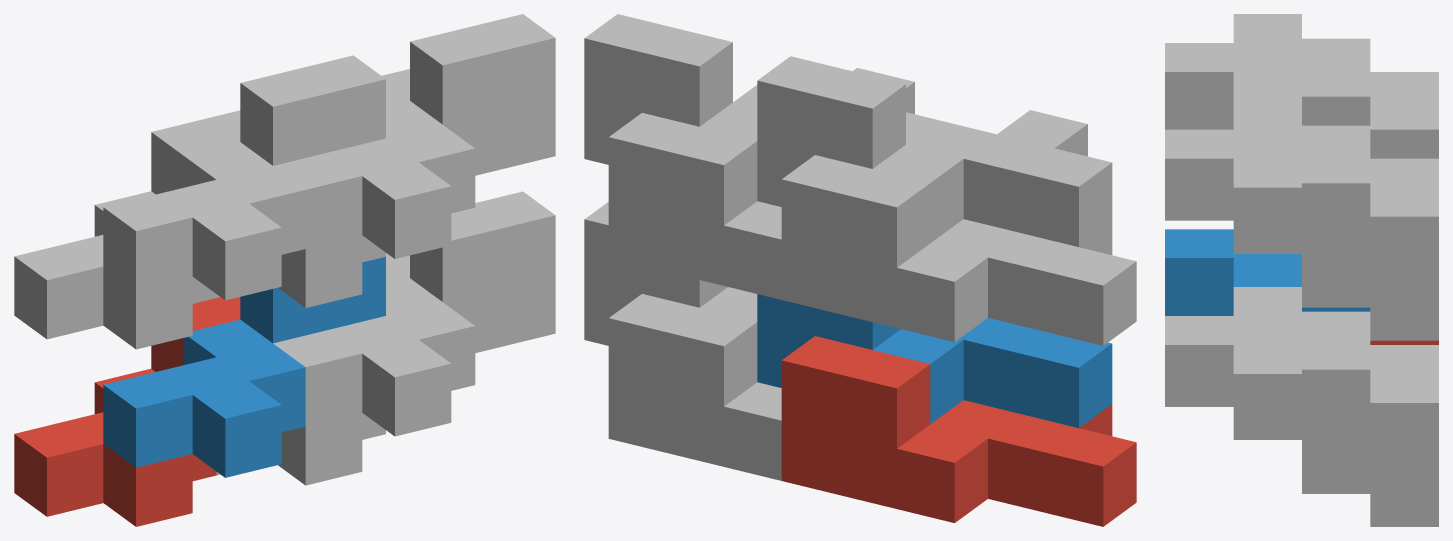
Rendered from tiling.obj.
3 views of the same model, side by side, from view 1: azimuth 30°, elevation 25°; view 2: azimuth 150°, elevation 25°; view 3: azimuth 270°, elevation 25° (orthographic). The views are drawn at different scales.
Parts seen in each view (by area): view 1: copy_1_domain_8, copy_1_domain_6, copy_1_domain_4, copy_1_domain_2, copy_1_domain_3, copy_1_domain_1, copy_1_domain_7, copy_1_domain_5; view 2: copy_1_domain_3, copy_1_domain_1, copy_1_domain_4, copy_1_domain_5, copy_1_domain_7, copy_1_domain_2, copy_1_domain_8, copy_1_domain_6; view 3: copy_1_domain_8, copy_1_domain_6, copy_1_domain_4, copy_1_domain_7, copy_1_domain_5, copy_1_domain_2, copy_1_domain_3, copy_1_domain_1.
Boxes of the visible parts, x1=… form: copy_1_domain_8: x1=273, y1=14, x2=555, y2=258; copy_1_domain_6: x1=273, y1=191, x2=555, y2=436; copy_1_domain_4: x1=103, y1=55, x2=385, y2=300; copy_1_domain_2: x1=103, y1=257, x2=385, y2=477; copy_1_domain_3: x1=14, y1=110, x2=240, y2=349; copy_1_domain_1: x1=14, y1=297, x2=240, y2=526; copy_1_domain_7: x1=216, y1=69, x2=409, y2=307; copy_1_domain_5: x1=216, y1=253, x2=409, y2=485; copy_1_domain_3: x1=781, y1=155, x2=1136, y2=345; copy_1_domain_1: x1=781, y1=336, x2=1136, y2=526; copy_1_domain_4: x1=757, y1=56, x2=1112, y2=246; copy_1_domain_5: x1=608, y1=294, x2=781, y2=480; copy_1_domain_7: x1=608, y1=113, x2=781, y2=299; copy_1_domain_2: x1=757, y1=294, x2=1112, y2=427; copy_1_domain_8: x1=584, y1=14, x2=938, y2=164; copy_1_domain_6: x1=584, y1=202, x2=757, y2=345; copy_1_domain_8: x1=1165, y1=101, x2=1370, y2=307; copy_1_domain_6: x1=1165, y1=287, x2=1370, y2=493; copy_1_domain_4: x1=1165, y1=14, x2=1370, y2=129; copy_1_domain_7: x1=1233, y1=158, x2=1438, y2=340; copy_1_domain_5: x1=1233, y1=345, x2=1438, y2=526; copy_1_domain_2: x1=1165, y1=229, x2=1370, y2=315; copy_1_domain_3: x1=1370, y1=72, x2=1438, y2=158; copy_1_domain_1: x1=1370, y1=340, x2=1438, y2=344.
Bounding box in the file's own units: 9 × 6 × 4.
